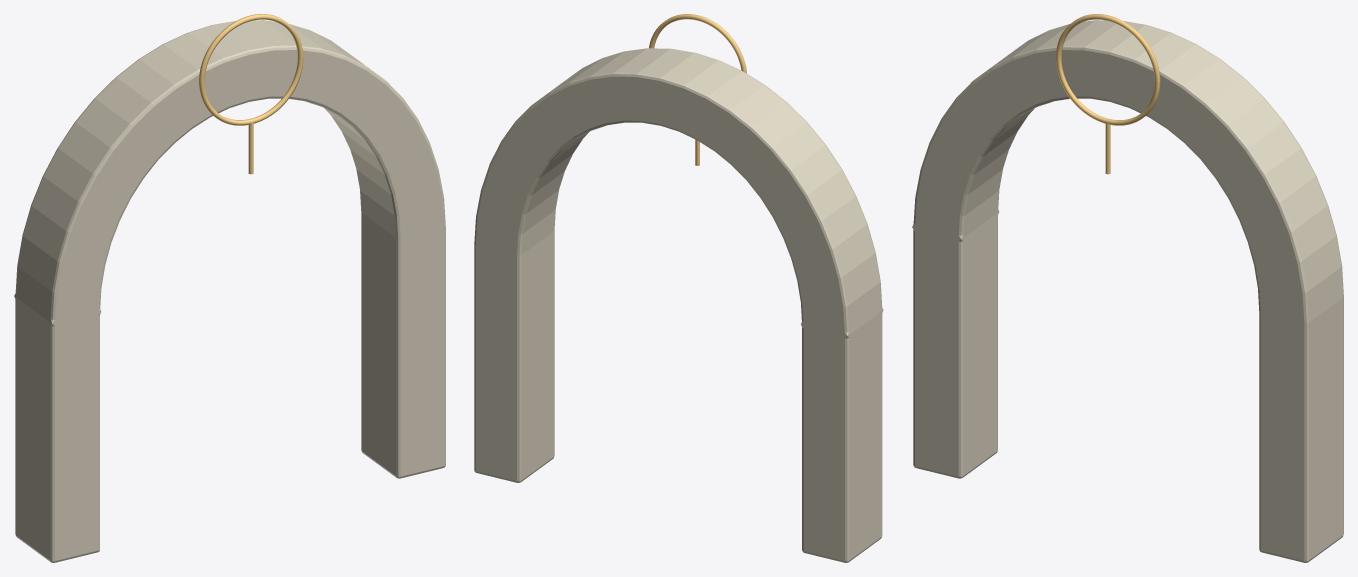
Rendered from gate.glb.
3 views of the same model, side by side, from view 1: azimuth 30°, elevation 25°; view 2: azimuth 150°, elevation 25°; view 3: azimuth 330°, elevation 25° (orthographic). The views are drawn at different scales.
Parts seen in each view (by area): view 1: gate; view 2: gate; view 3: gate.
Part boxes in pixels (x1,y1,x2,y2): gate: [14, 14, 445, 562]; gate: [474, 14, 883, 562]; gate: [912, 14, 1343, 562].
Size of the model in its own units: 24 by 29.13 by 4.31.
